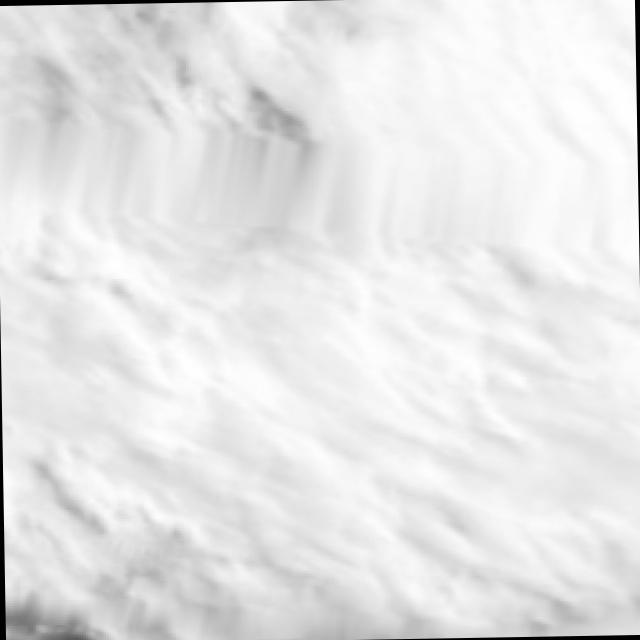CB: (315, 0, 640, 605)
